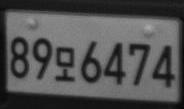4: (151, 44, 175, 88), (104, 42, 127, 85)
6: (79, 40, 102, 83)
7: (128, 42, 151, 86)
8: (9, 35, 29, 78)
9: (32, 37, 53, 79)
모: (54, 45, 75, 82)
